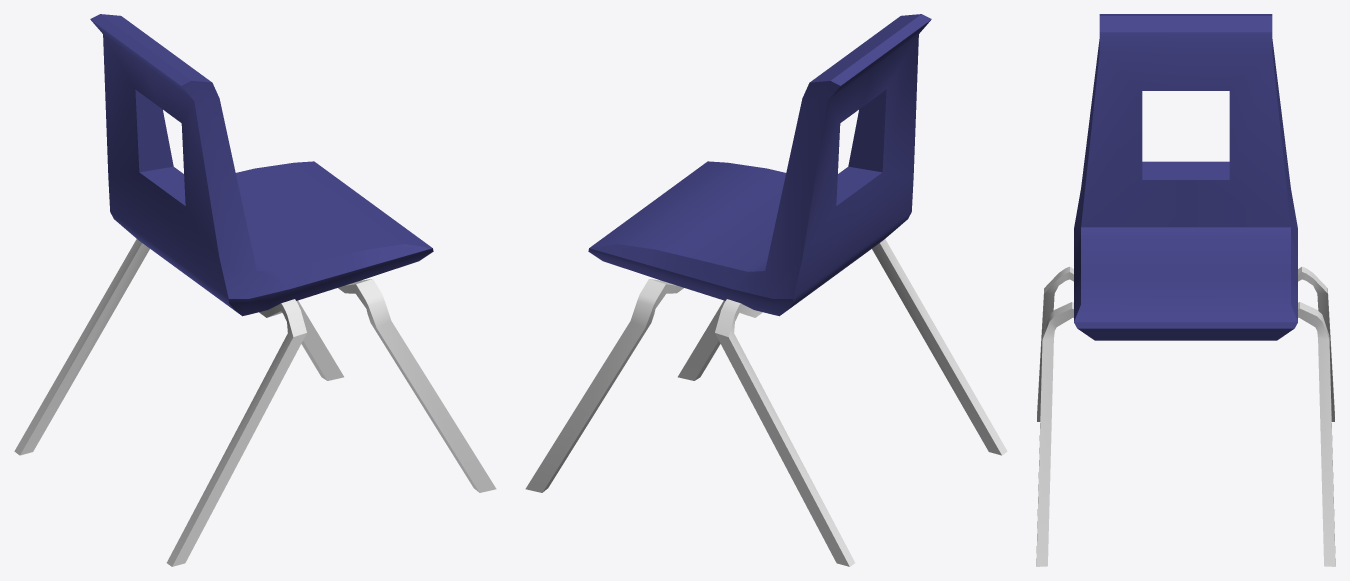
File: Chair.fbx
3 views of the same model, side by side, from view 1: azimuth 30°, elevation 25°; view 2: azimuth 150°, elevation 25°; view 3: azimuth 270°, elevation 25° (orthographic). The views are drawn at different scales.
Visible parts, largest first — view 1: Cube; view 2: Cube; view 3: Cube.
Boxes of the visible parts, left/top/right/bottom form: Cube: left=14, top=14, right=496, bottom=566; Cube: left=525, top=14, right=1007, bottom=566; Cube: left=1036, top=14, right=1335, bottom=566.
Size of the model in its own units: 142 by 188 by 120.
